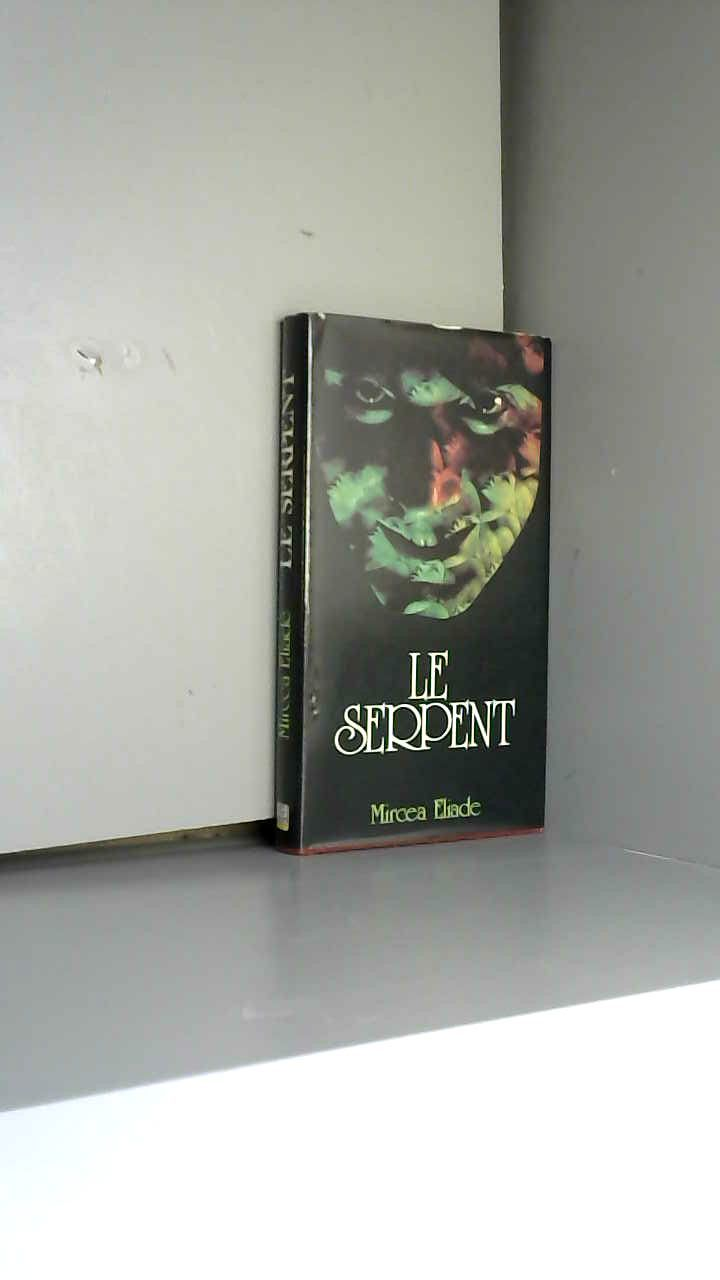book: (233, 284, 589, 892)
